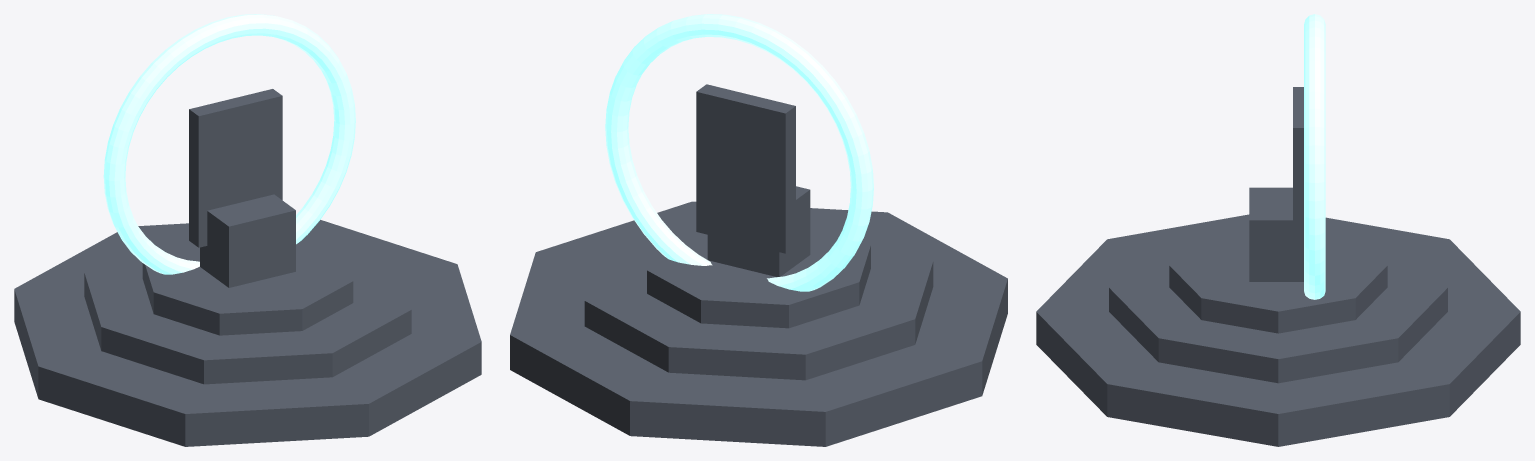
File: structure_dead_aurora_throne.glb
3 renders of one model, left to right at view 1: azimuth 30°, elevation 25°; view 2: azimuth 150°, elevation 25°; view 3: azimuth 270°, elevation 25°, orthographic. The views are drawn at different scales.
Visible parts, largest first — view 1: Aurora_Terrace_1, Aurora_Terrace_2, Dead_Aurora_Halo, Aurora_Terrace_3, Throne_Spired_Back, Throne_Seat; view 2: Aurora_Terrace_1, Aurora_Terrace_2, Dead_Aurora_Halo, Throne_Spired_Back, Aurora_Terrace_3, Throne_Seat; view 3: Aurora_Terrace_1, Aurora_Terrace_2, Aurora_Terrace_3, Dead_Aurora_Halo, Throne_Seat, Throne_Spired_Back.
Boxes of the visible parts, box(x1,y1,x2,y2) form: Aurora_Terrace_1: box(14, 220, 481, 446); Aurora_Terrace_2: box(84, 227, 411, 384); Dead_Aurora_Halo: box(103, 14, 355, 274); Aurora_Terrace_3: box(142, 232, 353, 335); Throne_Spired_Back: box(189, 89, 282, 247); Throne_Seat: box(200, 194, 295, 287); Aurora_Terrace_1: box(510, 201, 1007, 446); Aurora_Terrace_2: box(584, 212, 933, 380); Dead_Aurora_Halo: box(605, 14, 873, 291); Throne_Spired_Back: box(696, 84, 795, 253); Aurora_Terrace_3: box(647, 215, 870, 328); Throne_Seat: box(707, 186, 810, 276); Aurora_Terrace_1: box(1036, 214, 1520, 446); Aurora_Terrace_2: box(1109, 221, 1447, 383); Aurora_Terrace_3: box(1169, 224, 1387, 333); Dead_Aurora_Halo: box(1304, 14, 1325, 299); Throne_Seat: box(1249, 187, 1303, 281); Throne_Spired_Back: box(1293, 87, 1303, 259).
Bounding box in the file's own units: 20 × 14.45 × 20.
